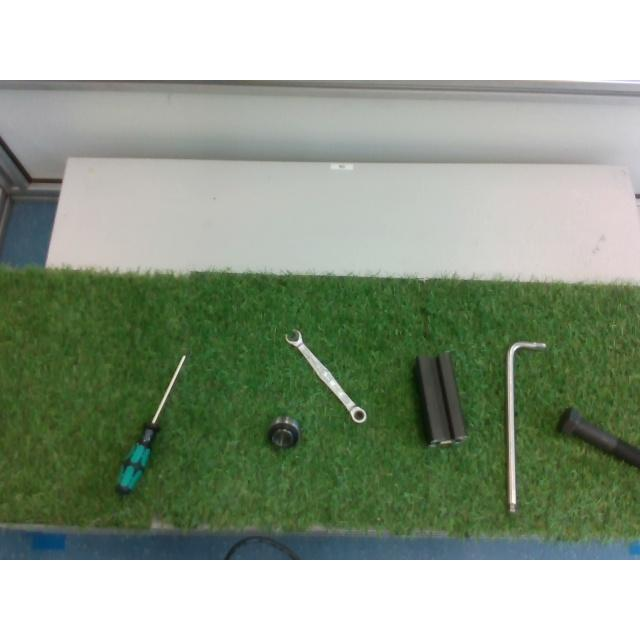AllenKey: (506, 341, 546, 513)
Bearing2: (268, 416, 300, 448)
M20_100: (558, 407, 640, 467)
S40_40_B: (416, 351, 466, 445)
Screwdriver: (114, 354, 186, 494)
Wrench: (286, 330, 366, 422)
